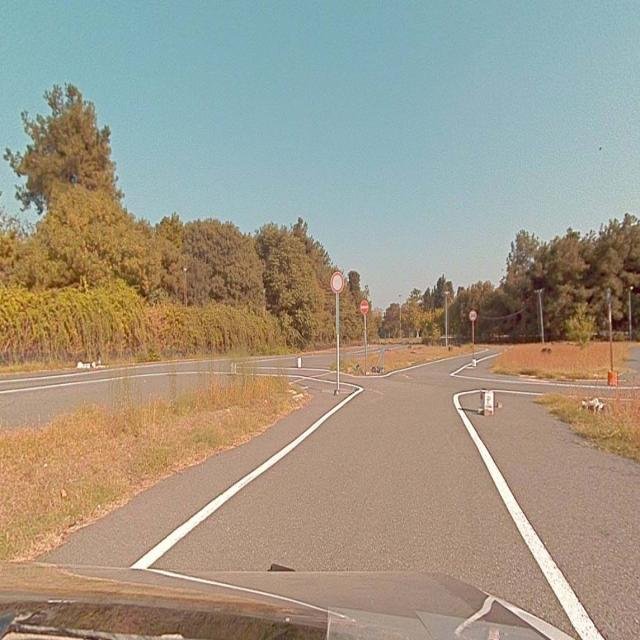girisyok: (359, 300, 368, 314)
